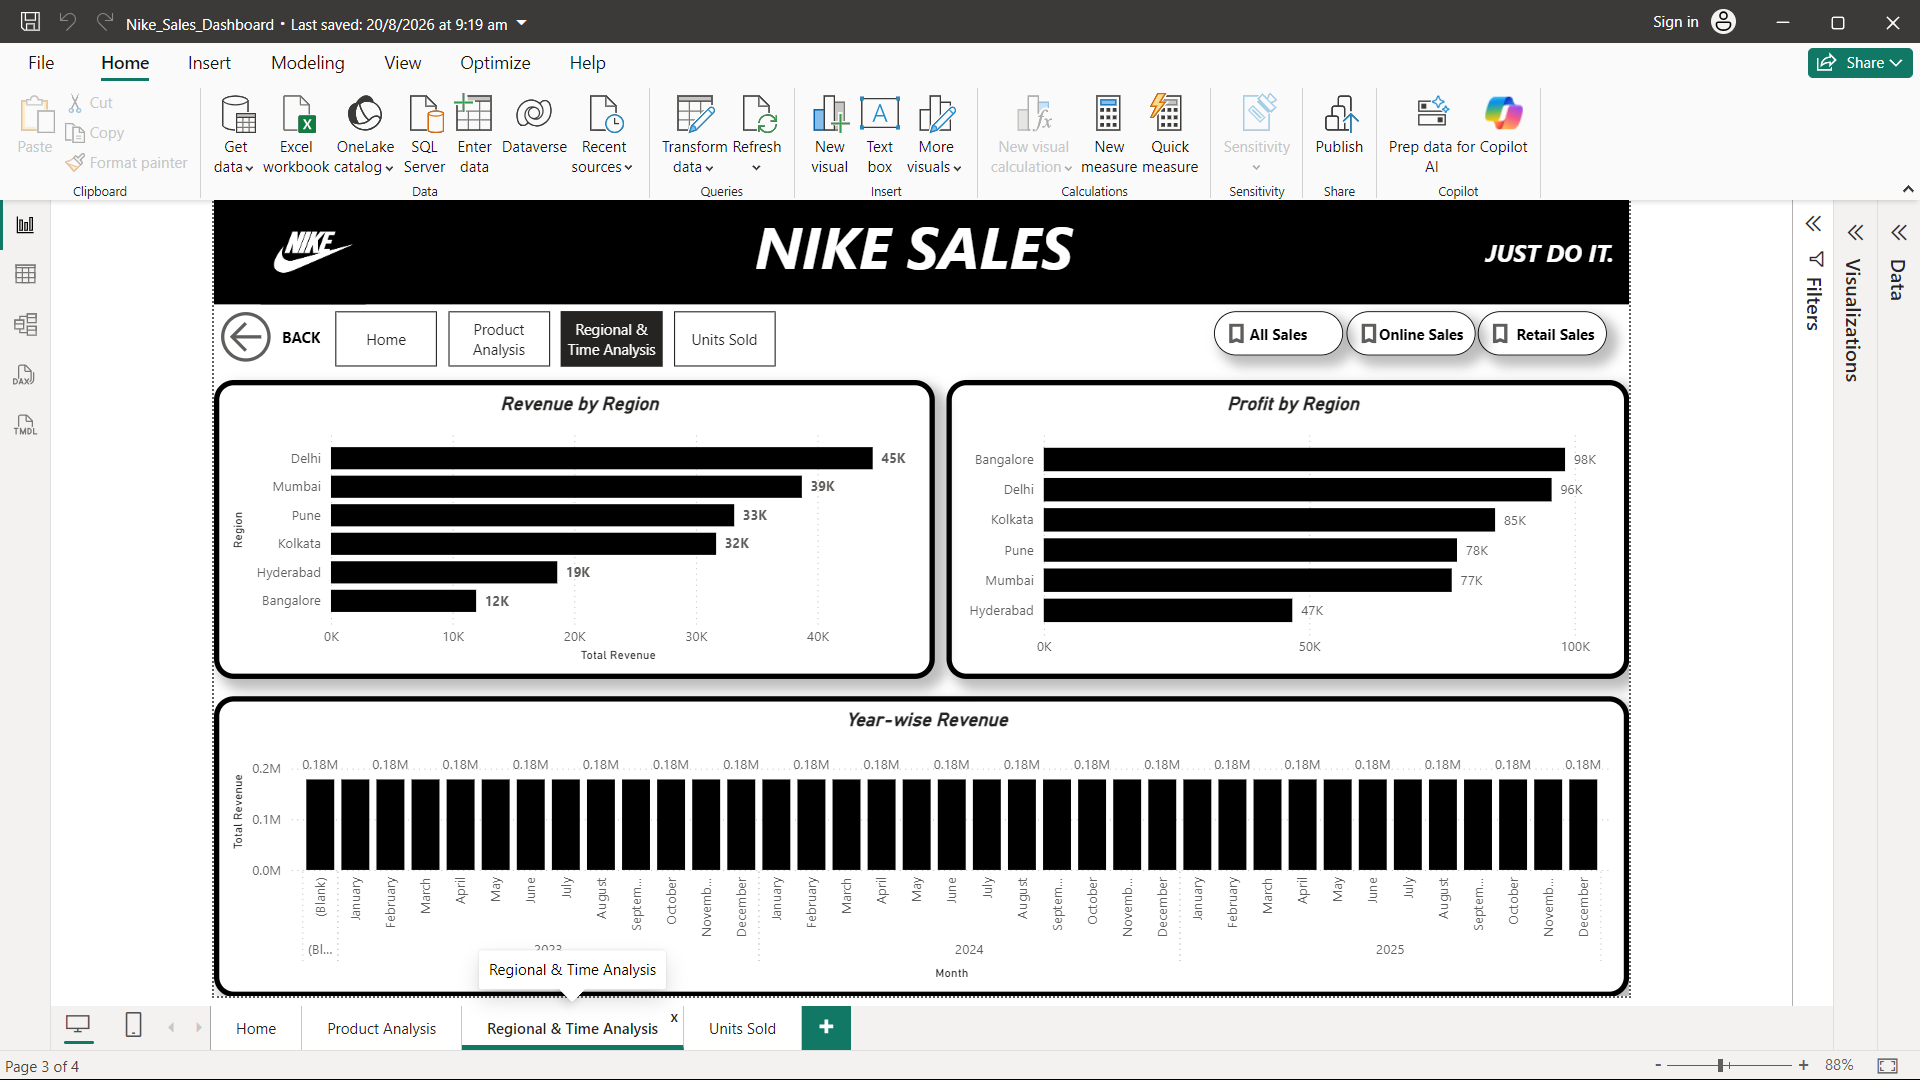

The page's visual inventory and layout, read from the dashboard file:
{"tool":"powerbi","page":{"name":"Regional & Time Analysis","canvas":[1280,720],"ordinal":2},"visuals":[{"type":"textbox","box":[0,0,1280.2,94.2],"z":0},{"type":"image","box":[0,0,199,94.7],"z":1000},{"type":"textbox","box":[1082.7,28.8,188,38.4],"z":2000},{"type":"clusteredBarChart","title":"Profit by Region","fields":{"Category":["Dim_Region.Region"],"Y":["Fact_Sales.Total Profit"]},"box":[662.8,163.3,617.5,270.3],"z":3000},{"type":"clusteredBarChart","title":"Revenue by Region","fields":{"Y":["Fact_Sales.Total Revenue"],"Category":["Dim_Region.Region"]},"box":[0,163.3,651.8,270.3],"z":4000},{"type":"card","fields":{"Values":["Fact_Sales.Total Profit"]},"box":[618.9,580.4,190.7,111.1],"z":5000},{"type":"pageNavigator","box":[109.9,100.2,400.7,50.1],"z":6000},{"type":"clusteredColumnChart","title":"Year-wise Revenue","fields":{"Y":["Fact_Sales.Total Revenue"],"Category":["Dim_Date.Date.Variation.Date Hierarchy.Year","Dim_Date.Date.Variation.Date Hierarchy.Month"]},"box":[0,449.4,1280,271.7],"z":7000},{"type":"actionButton","box":[1024,100.2,116.9,40.3],"z":8000},{"type":"actionButton","box":[1143.7,100.2,116.9,40.3],"z":9000},{"type":"actionButton","box":[904.3,100.2,116.9,40.3],"z":10000},{"type":"actionButton","box":[0,94.7,100.2,57.6],"z":11000}]}

Visuals, with their boxes on the page's 1280x720 design canvas (x1, y1, x2, y2). These are canvas units, not pixel positions in the 1920x1080 screenshot, which may show the page scaled, cropped or inside an application window:
textbox: (0, 0, 1280, 94)
image: (0, 0, 199, 95)
textbox: (1083, 29, 1271, 67)
"Profit by Region" clusteredBarChart: (663, 163, 1280, 434)
"Revenue by Region" clusteredBarChart: (0, 163, 652, 434)
card - Fact_Sales.Total Profit: (619, 580, 810, 692)
pageNavigator: (110, 100, 511, 150)
"Year-wise Revenue" clusteredColumnChart: (0, 449, 1280, 721)
actionButton: (1024, 100, 1141, 140)
actionButton: (1144, 100, 1261, 140)
actionButton: (904, 100, 1021, 140)
actionButton: (0, 95, 100, 152)
